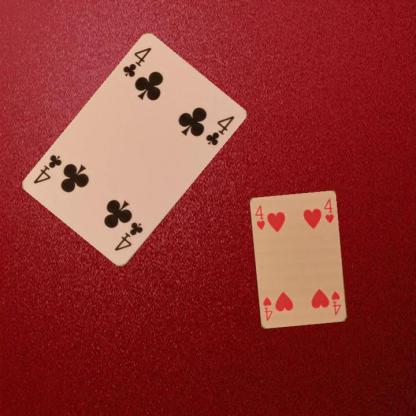4c: (120, 45, 153, 79), (112, 220, 145, 253)
4h: (252, 203, 266, 231), (329, 289, 342, 317)
